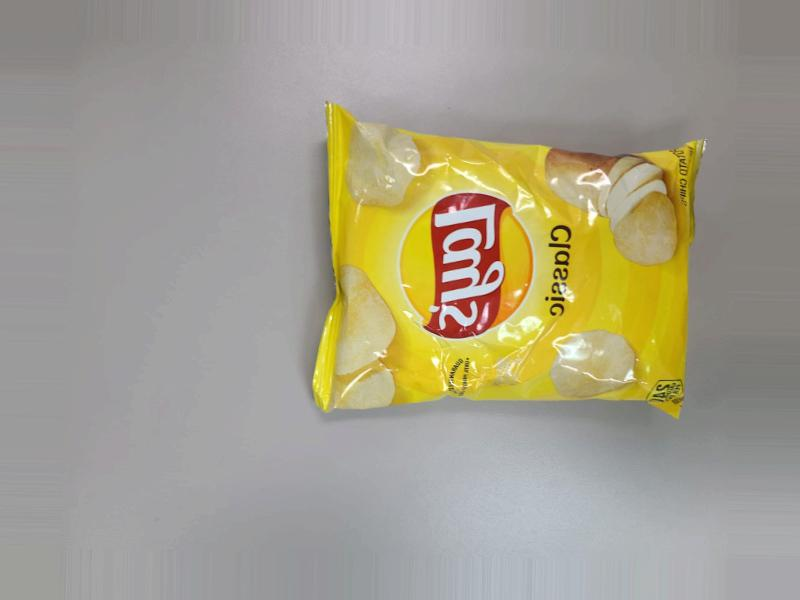lays: (305, 88, 681, 429)
